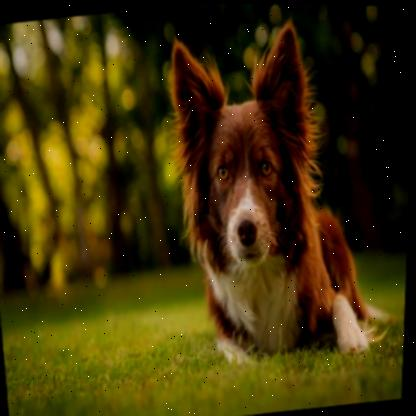dog: (171, 22, 389, 362)
